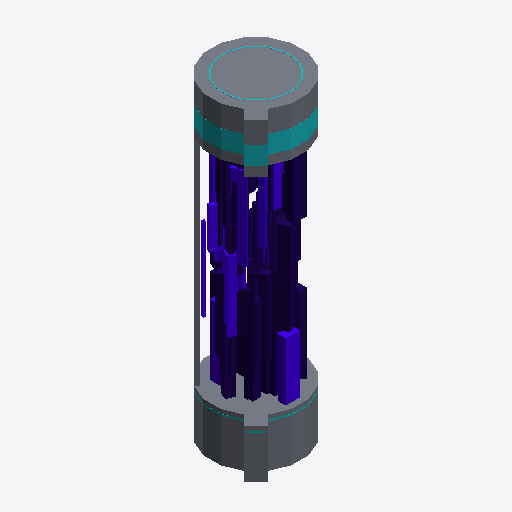
A Minecraft block model of 210 cuboids, rendered isometrically (azimuth 45°, elevation 35.3°) with the resource pack's own textures.
Visible parts, largest first — hexadecagon (×16), element 141, element 139, element 145, element 164, element 122, element 172, element 103, element 159, element 158, element 188, element 208 (+4 smaller).
Part boxes in pixels (left/top/right/bottom): hexadecagon (×16): left=194, top=37, right=317, bottom=481; element 141: left=273, top=212, right=297, bottom=331; element 139: left=278, top=327, right=299, bottom=404; element 145: left=285, top=151, right=306, bottom=223; element 164: left=236, top=289, right=260, bottom=382; element 122: left=217, top=165, right=247, bottom=266; element 172: left=222, top=250, right=236, bottom=337; element 103: left=258, top=268, right=271, bottom=359; element 159: left=221, top=323, right=235, bottom=398; element 158: left=294, top=283, right=306, bottom=365; element 188: left=258, top=177, right=266, bottom=248; element 208: left=207, top=202, right=223, bottom=252.
Size of the model in its own units: 2.75 by 9.48 by 2.76.